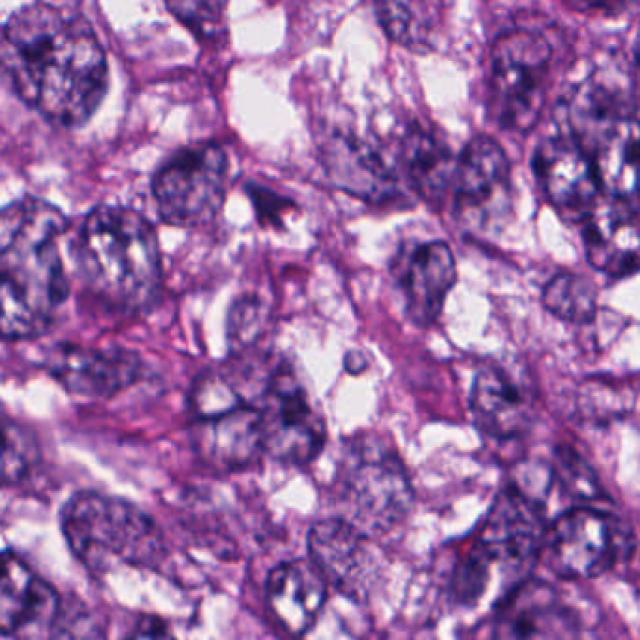tumor: (209, 342, 321, 471), (0, 2, 106, 124), (70, 203, 165, 313), (455, 498, 542, 603), (306, 108, 392, 210), (531, 505, 640, 584), (322, 430, 401, 538), (57, 483, 130, 576), (53, 337, 138, 401), (260, 557, 324, 640), (393, 244, 454, 328), (457, 127, 514, 215), (160, 137, 221, 218), (522, 117, 570, 205), (481, 66, 545, 130), (499, 445, 558, 505), (540, 264, 593, 325), (313, 518, 353, 596), (404, 135, 455, 196), (468, 350, 511, 422), (185, 367, 241, 422), (230, 293, 275, 352), (418, 533, 455, 604), (239, 176, 286, 223), (340, 342, 363, 379)
